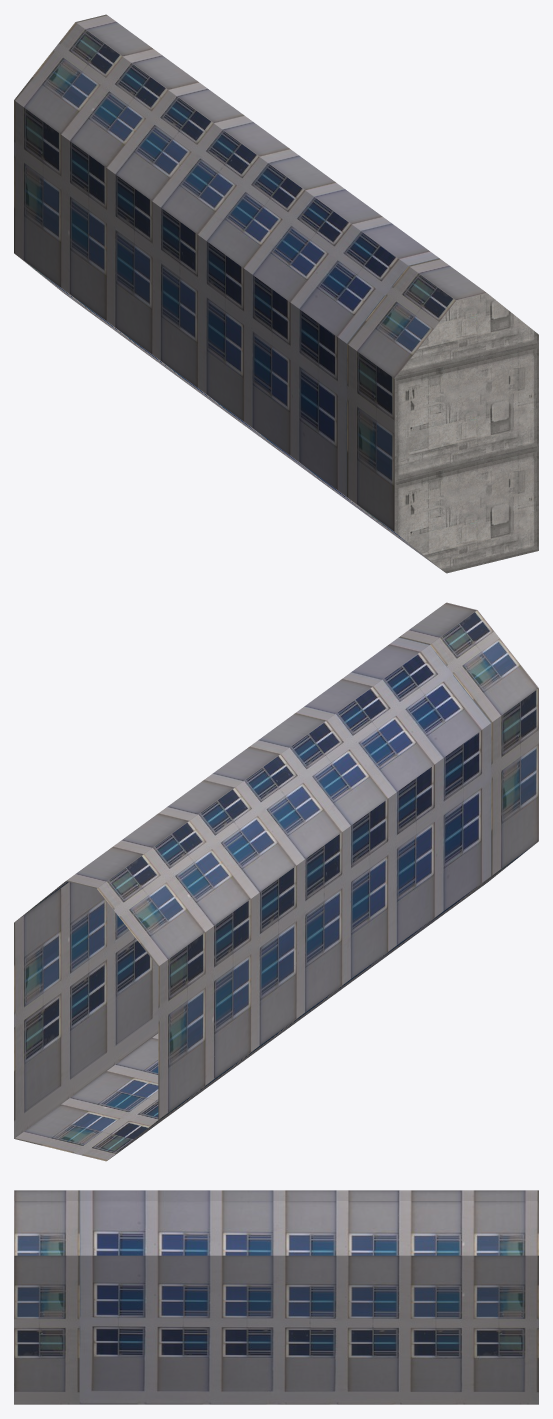
The model's file is building-63.obj.
3 renders of one model, top to bottom at view 1: azimuth 30°, elevation 25°; view 2: azimuth 150°, elevation 25°; view 3: azimuth 270°, elevation 25°, orthographic. The views are drawn at different scales.
Size of the model in its own units: 4.19 by 7.5 by 19.15.
